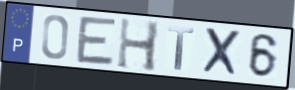0: (40, 13, 71, 61)
6: (246, 33, 280, 81)
E: (75, 14, 120, 68)
H: (115, 16, 162, 74)
T: (166, 24, 197, 72)
X: (201, 26, 243, 79)
